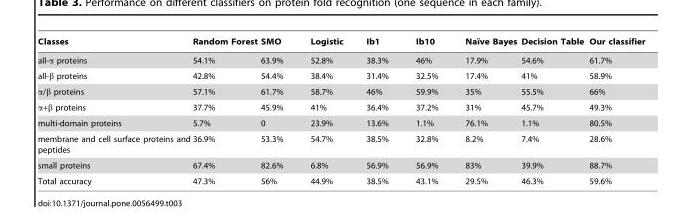table: (37, 36, 644, 185)
table column: (37, 36, 190, 185), (190, 36, 258, 185), (450, 36, 518, 185), (518, 36, 585, 185), (585, 36, 644, 185), (296, 36, 354, 185), (401, 36, 450, 185), (354, 36, 401, 185), (258, 36, 296, 185)
table column header: (37, 36, 644, 50)
table row: (37, 130, 644, 157), (37, 50, 644, 67), (37, 98, 644, 115), (37, 67, 644, 83), (37, 157, 644, 173), (37, 83, 644, 98), (37, 115, 644, 130), (37, 36, 644, 50), (37, 173, 644, 185)
